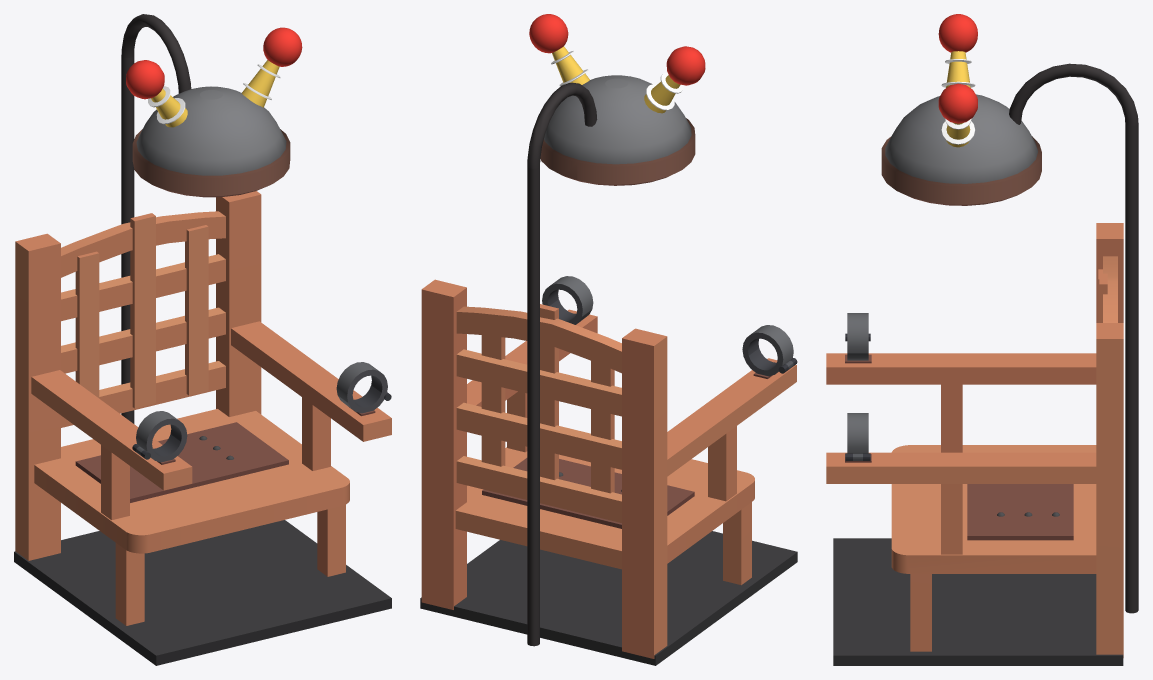
The model's file is chair2.fbx.
The picture shows the model from 3 angles, left to right: view 1: azimuth 30°, elevation 25°; view 2: azimuth 150°, elevation 25°; view 3: azimuth 270°, elevation 25°; orthographic projection. The views are drawn at different scales.
Visible parts, largest first — view 1: chair2, electric_cap, lock, lock1; view 2: chair2, electric_cap, lock1, lock; view 3: chair2, electric_cap, lock, lock1.
Boxes of the visible parts, <box> form: chair2: <box>14,191,391,665</box>; electric_cap: <box>121,14,302,423</box>; lock: <box>336,362,387,402</box>; lock1: <box>136,411,187,451</box>; chair2: <box>420,279,797,665</box>; electric_cap: <box>527,14,705,646</box>; lock1: <box>742,325,793,365</box>; lock: <box>542,276,593,316</box>; chair2: <box>826,223,1123,665</box>; electric_cap: <box>881,14,1138,613</box>; lock: <box>847,413,868,453</box>; lock1: <box>847,313,868,353</box>.
Size of the model in its own units: 48.6 by 103 by 52.13.
